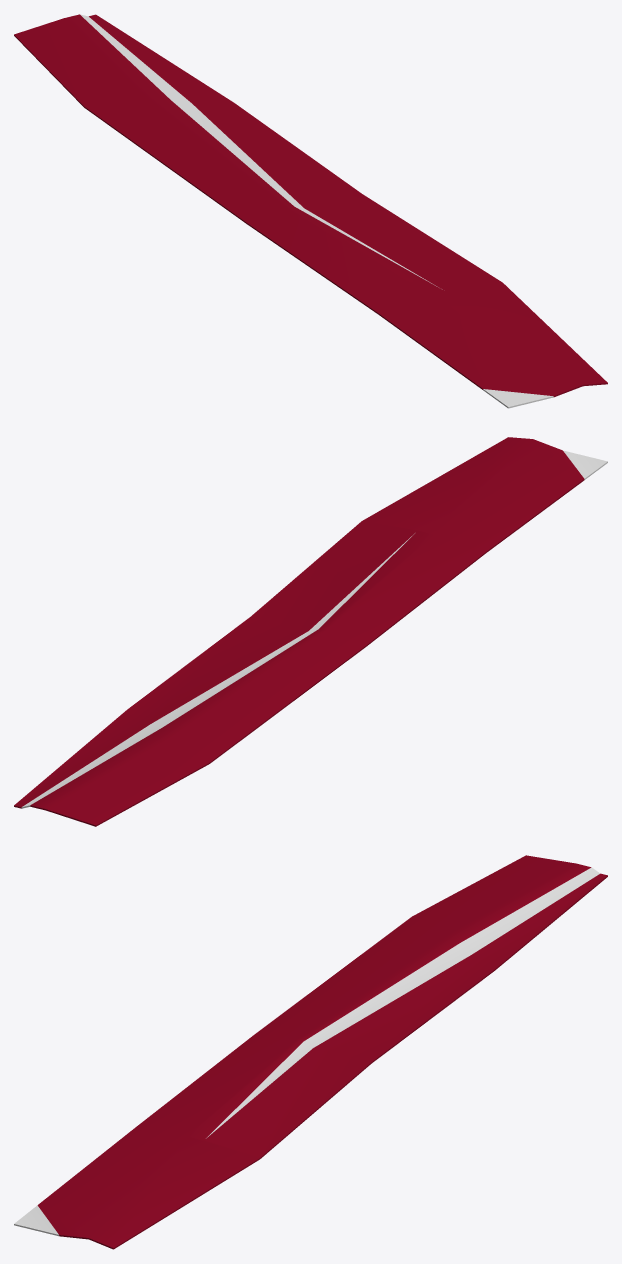
File: Bacon.fbx
The picture shows the model from 3 angles, top to bottom: view 1: azimuth 30°, elevation 25°; view 2: azimuth 150°, elevation 25°; view 3: azimuth 330°, elevation 25°; orthographic projection.
Parts seen in each view (by area): view 1: pCube10; view 2: pCube10; view 3: pCube10.
Part boxes in pixels (x1=…): pCube10: x1=14, y1=14, x2=607, y2=408; pCube10: x1=14, y1=437, x2=607, y2=826; pCube10: x1=14, y1=855, x2=607, y2=1249.
Size of the model in its own units: 4.05 by 0.2509 by 26.47.
